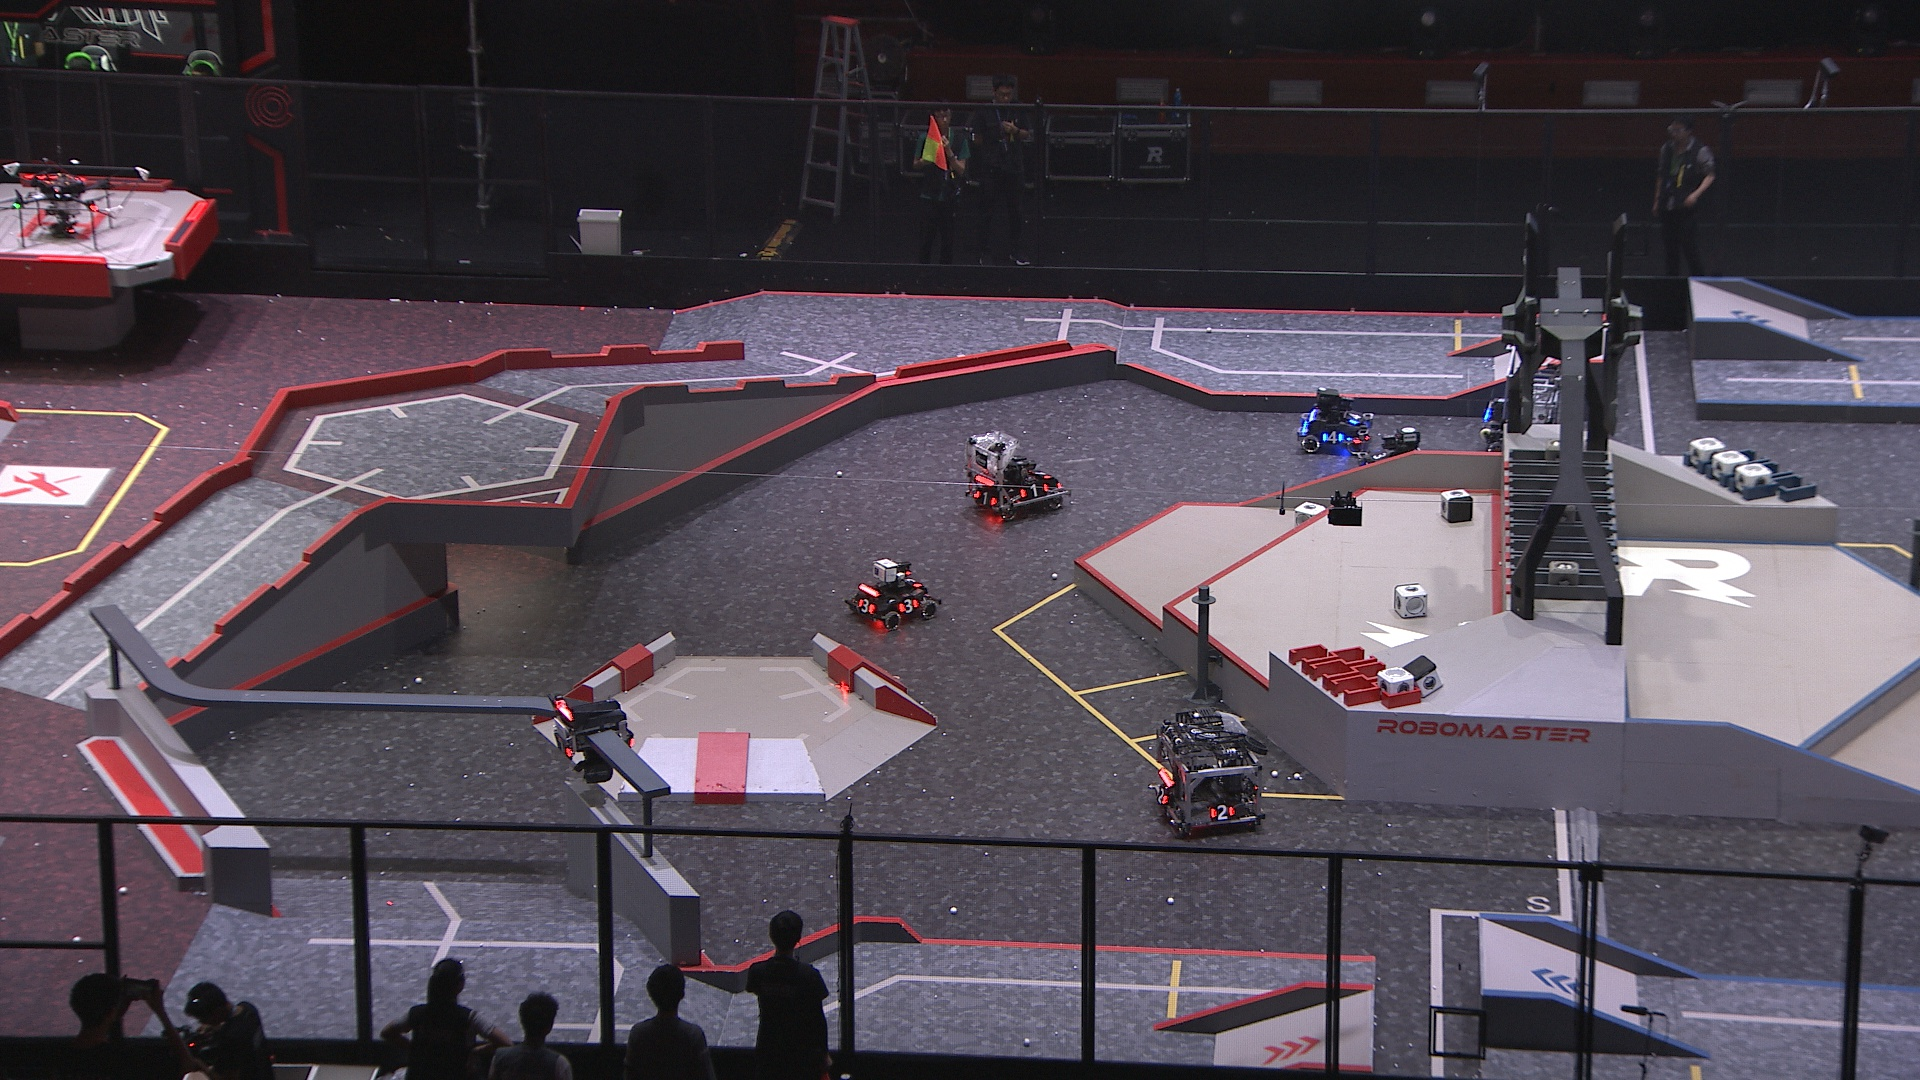armor: (553, 733, 576, 760), (1207, 802, 1237, 822), (975, 489, 1000, 508), (1320, 429, 1346, 446), (1021, 484, 1050, 498), (897, 597, 920, 615), (856, 599, 877, 616), (905, 575, 926, 589), (1346, 410, 1367, 425), (1154, 787, 1168, 807), (1034, 469, 1054, 484)
car: (1153, 700, 1265, 836), (1477, 345, 1576, 455), (963, 431, 1065, 520), (847, 553, 939, 629), (1356, 427, 1443, 495), (1299, 386, 1371, 455)
watcher: (547, 695, 636, 783)
